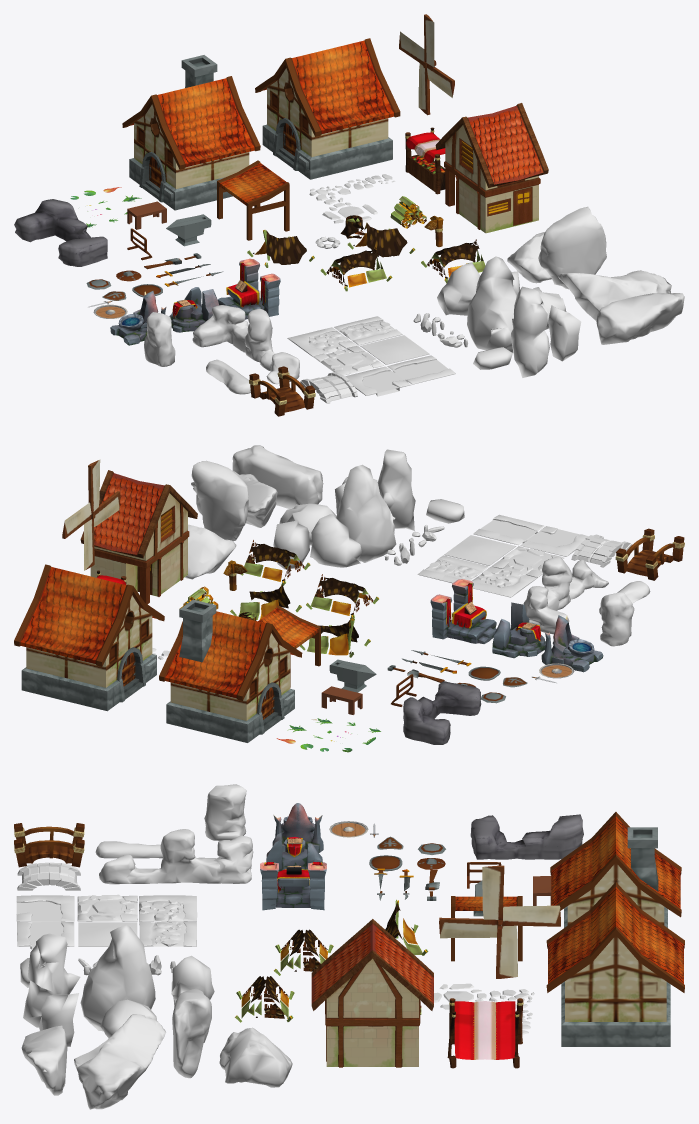
File: Pack.fbx
The picture shows the model from 3 angles, top to bottom: view 1: azimuth 30°, elevation 25°; view 2: azimuth 150°, elevation 25°; view 3: azimuth 270°, elevation 25°; orthographic projection. The views are drawn at different scales.
Visible parts, largest first — view 1: Blacksmith.010, Blacksmith, Cube.029, Rocks.001, basefloor, Rocks.007, Rocks.005, Plane.006, Rocks.004, Rocks.006, Blacksmith.001, Rocks.009 (+22 smaller); view 2: Blacksmith.010, Blacksmith, Cube.029, Rocks.001, basefloor, Rocks.005, Rocks.007, Rocks.004, Plane.006, Altar03, basefloor.004, Rocks.009 (+21 smaller); view 3: Blacksmith.010, Cube.029, Blacksmith, Rocks.001, basefloor, Rocks.006, Cube.031, Rocks.005, Plane.001, Plane.006, Rocks.008, Rocks.009 (+19 smaller).
Boxes of the visible parts, x1,y1,x2,y2 form: Blacksmith.010: [255, 38, 400, 179]; Blacksmith: [122, 55, 260, 210]; Cube.029: [435, 103, 548, 233]; Rocks.001: [144, 305, 299, 394]; basefloor: [287, 316, 429, 375]; Rocks.007: [538, 206, 606, 289]; Rocks.005: [467, 256, 516, 352]; Plane.006: [14, 199, 107, 266]; Rocks.004: [596, 293, 684, 344]; Rocks.006: [558, 270, 671, 321]; Blacksmith.001: [217, 160, 289, 240]; Rocks.009: [511, 286, 549, 377]; Blacksmith.010: [14, 564, 164, 711]; Blacksmith: [159, 599, 302, 742]; Cube.029: [80, 470, 197, 604]; Rocks.001: [523, 556, 650, 646]; basefloor: [417, 535, 564, 597]; Rocks.005: [336, 464, 396, 562]; Rocks.007: [191, 460, 248, 541]; Rocks.004: [232, 445, 323, 509]; Plane.006: [403, 681, 481, 744]; Altar03: [430, 579, 496, 643]; basefloor.004: [473, 514, 588, 556]; Rocks.009: [377, 449, 415, 530]; Blacksmith.010: [546, 882, 684, 1046]; Cube.029: [311, 919, 433, 1067]; Blacksmith: [550, 812, 681, 927]; Rocks.001: [95, 784, 253, 884]; basefloor: [77, 894, 197, 946]; Rocks.006: [74, 1014, 165, 1109]; Cube.031: [439, 865, 560, 978]; Rocks.005: [80, 925, 155, 1031]; Plane.001: [447, 998, 523, 1068]; Plane.006: [470, 814, 583, 859]; Rocks.008: [219, 1027, 292, 1087]; Rocks.009: [23, 933, 80, 1027].
Bounding box in the file's own units: 1030 × 400 × 1108.
